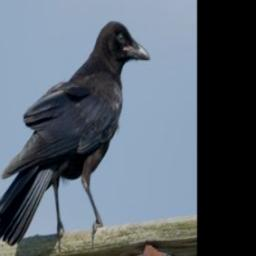Crow: (0, 20, 151, 246)
